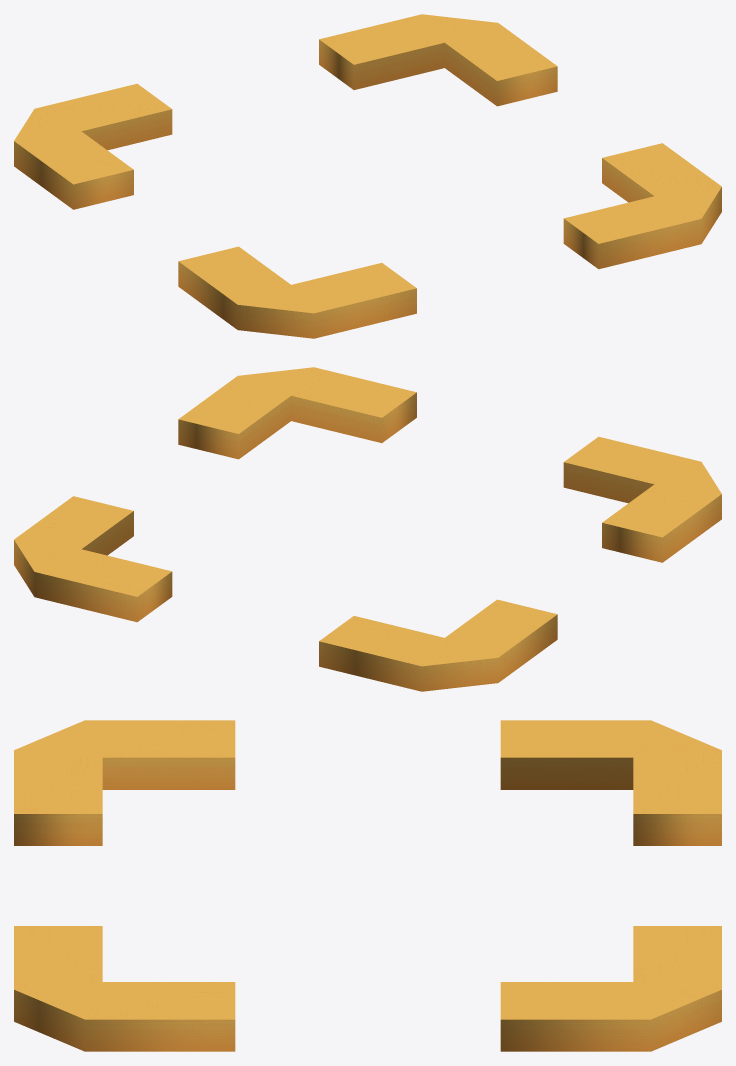
The model's file is Pointer.glb.
The picture shows the model from 3 angles, top to bottom: view 1: azimuth 30°, elevation 25°; view 2: azimuth 150°, elevation 25°; view 3: azimuth 270°, elevation 25°; orthographic projection. The views are drawn at different scales.
Parts seen in each view (by area): view 1: selection-a; view 2: selection-a; view 3: selection-a.
Part boxes in pixels (x1,y1,x2,y2): selection-a: (14,14,721,338); selection-a: (14,367,721,691); selection-a: (14,720,721,1051).
Bounding box in the file's own units: 1 × 0.05 × 1.
Materials: 1 (1 with a texture image).
